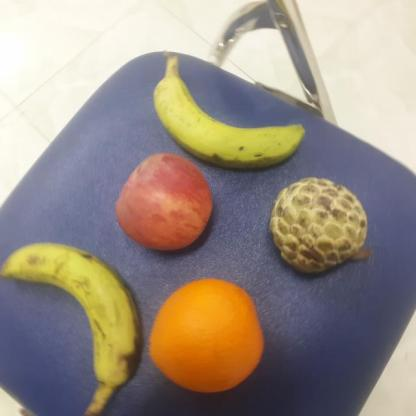annona: (267, 175, 371, 275)
apple: (109, 151, 214, 253)
banana: (1, 240, 144, 389), (150, 62, 308, 171)
orange: (144, 274, 266, 394)
